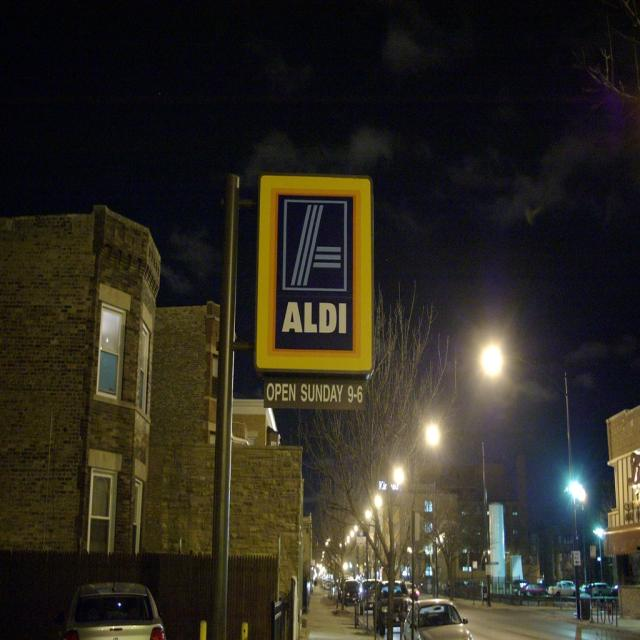aldi: (257, 175, 374, 371)
